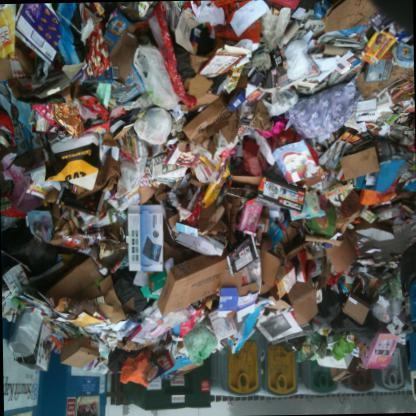Garbage: (0, 0, 415, 395), (155, 0, 361, 149), (237, 0, 398, 86), (0, 2, 91, 62), (30, 83, 108, 142), (368, 76, 413, 168), (266, 235, 330, 294), (292, 324, 375, 368), (140, 26, 180, 108), (158, 316, 217, 370), (104, 148, 154, 196), (128, 90, 174, 142), (283, 167, 336, 211), (82, 216, 128, 266), (278, 28, 323, 76), (15, 200, 54, 250), (350, 239, 396, 280), (340, 197, 398, 228), (248, 82, 299, 116), (75, 88, 100, 134)
